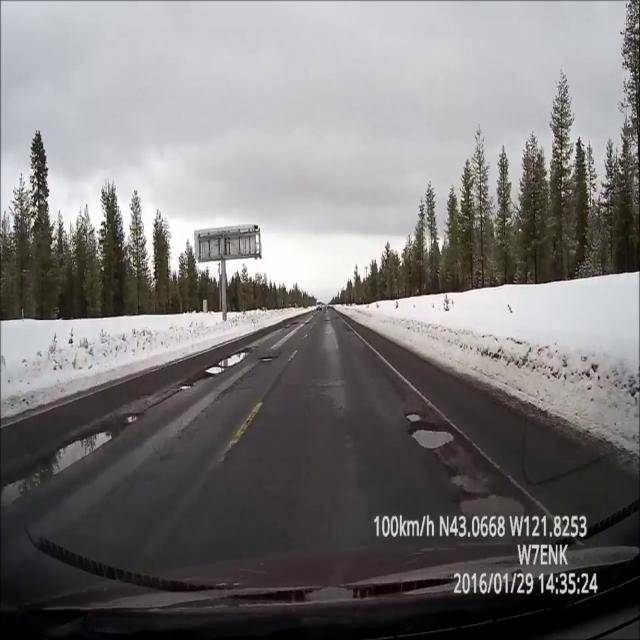Pothole: (1, 428, 118, 522), (204, 348, 250, 381), (457, 496, 527, 516), (410, 426, 456, 451), (451, 469, 496, 494), (120, 410, 144, 430), (174, 379, 196, 395), (258, 350, 280, 364), (407, 412, 420, 423), (346, 328, 354, 332), (291, 322, 299, 325), (335, 315, 340, 319), (325, 319, 329, 322)
